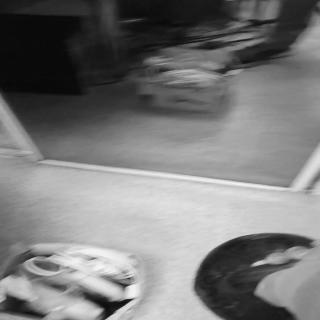kettlebell: (194, 235, 320, 320)
